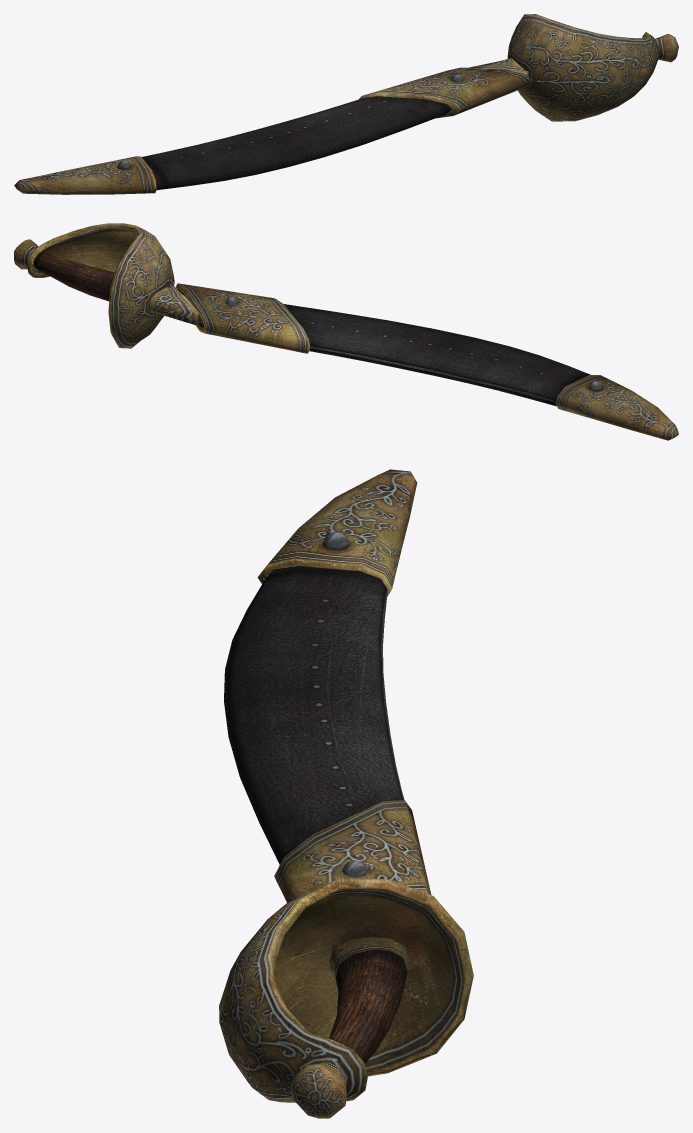
File: Pirate_sword_B.FBX
3 views of the same model, one above another, from view 1: azimuth 30°, elevation 25°; view 2: azimuth 150°, elevation 25°; view 3: azimuth 270°, elevation 25° (orthographic). The views are drawn at different scales.
Parts seen in each view (by area): view 1: Pirate_sword_B_sheath, Pirate_sword_B; view 2: Pirate_sword_B_sheath, Pirate_sword_B; view 3: Pirate_sword_B_sheath, Pirate_sword_B.
Boxes of the visible parts, x1,y1,x2,y2 form: Pirate_sword_B_sheath: (14, 67, 532, 194); Pirate_sword_B: (469, 14, 678, 121); Pirate_sword_B_sheath: (175, 283, 678, 440); Pirate_sword_B: (14, 223, 203, 348); Pirate_sword_B_sheath: (224, 469, 431, 902); Pirate_sword_B: (219, 565, 473, 1118).
Bounding box in the file's own units: 99.37 × 15.08 × 17.09.
